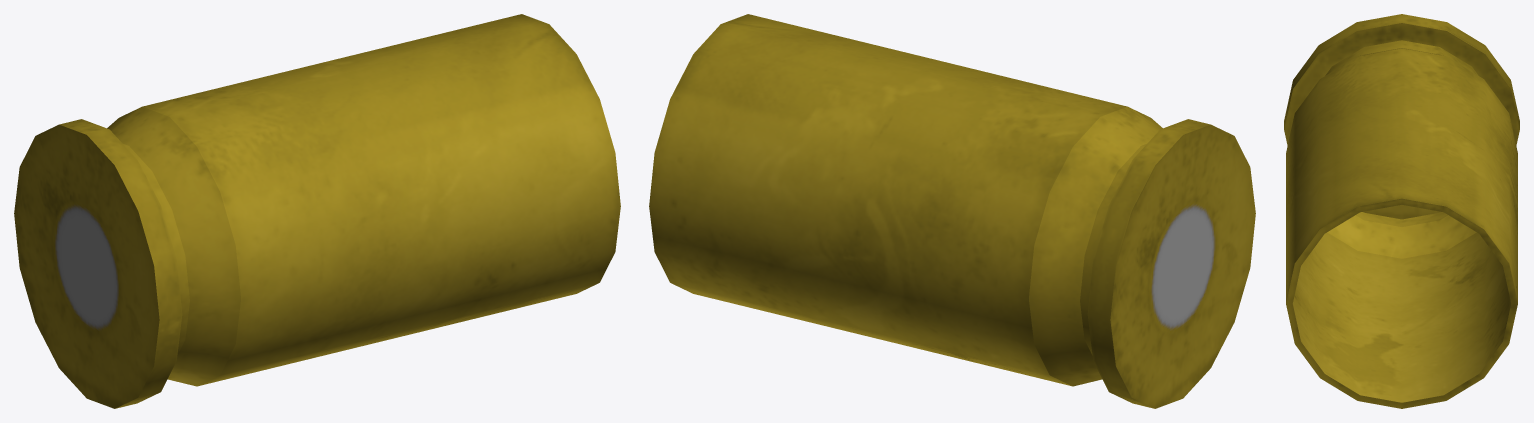
Rendered from vfe-pistol-short.fbx.
The picture shows the model from 3 angles, left to right: view 1: azimuth 30°, elevation 25°; view 2: azimuth 150°, elevation 25°; view 3: azimuth 270°, elevation 25°; orthographic projection. The views are drawn at different scales.
Visible parts, largest first — view 1: 45acp; view 2: 45acp; view 3: 45acp.
Part boxes in pixels (x1,y1,x2,y2): 45acp: (14,14,620,408); 45acp: (649,14,1255,408); 45acp: (1284,14,1519,408).
Bounding box in the file's own units: 0.0647 × 0.0353 × 0.0353.
Materials: 1 (1 with a texture image).
